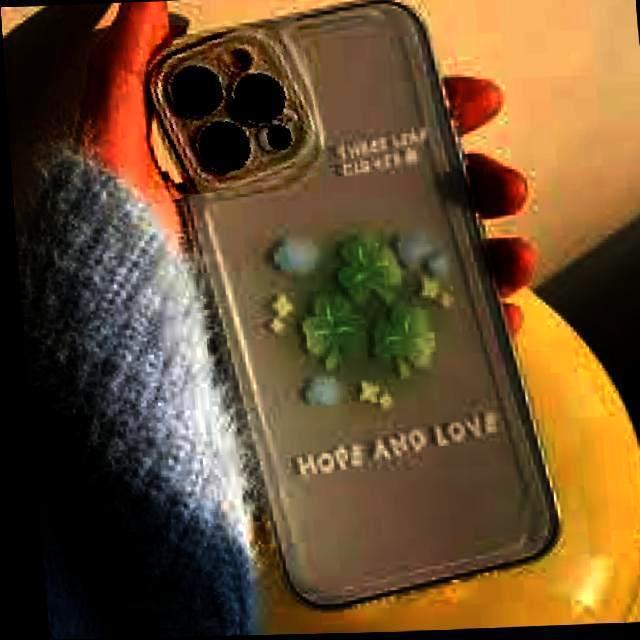lens_back: (228, 66, 290, 130), (165, 60, 226, 124), (190, 120, 256, 178)
phone: (149, 3, 566, 608)
